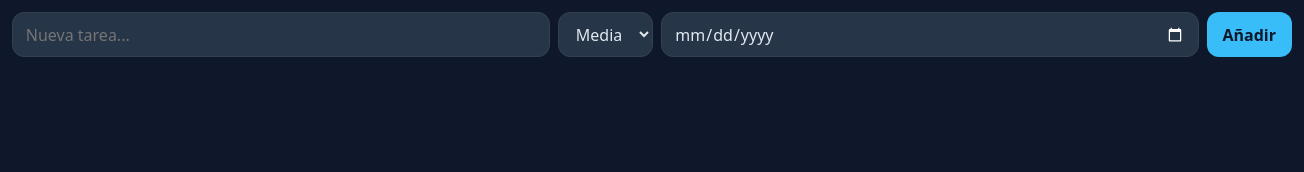
Test case: QuickAddTask › only reveals the time input once a date is chosen
This screenshot has width=1304, height=172.
Type "2026-03-15" into the date field.
click(930, 35); type("2026-03-15")  # box [660, 12, 1198, 57]
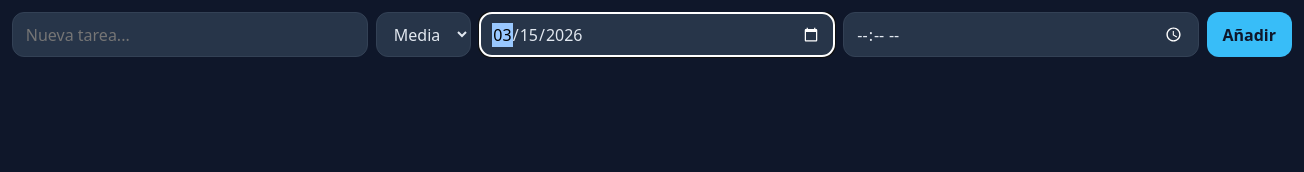
Expected: the time field named "Hora (opcional)" is shown, [842, 12, 1198, 57]
